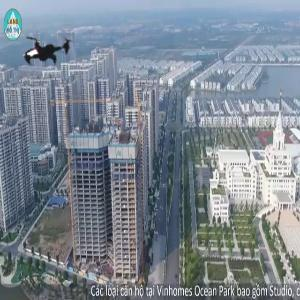drone: (9, 9, 87, 87)
